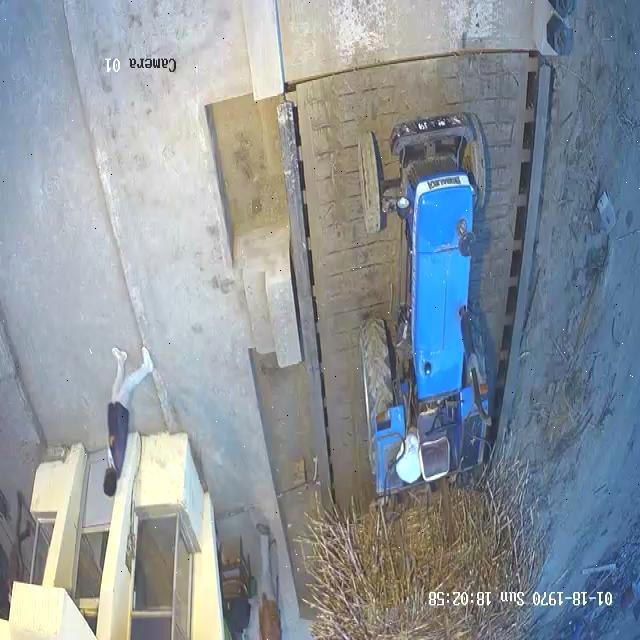Tratores - v5 YOLO V8L 2024-11-13: (356, 110, 492, 492)
